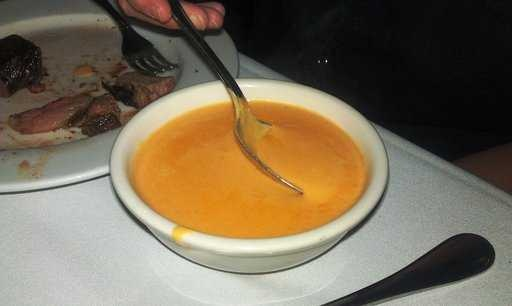soup: (140, 86, 363, 242)
